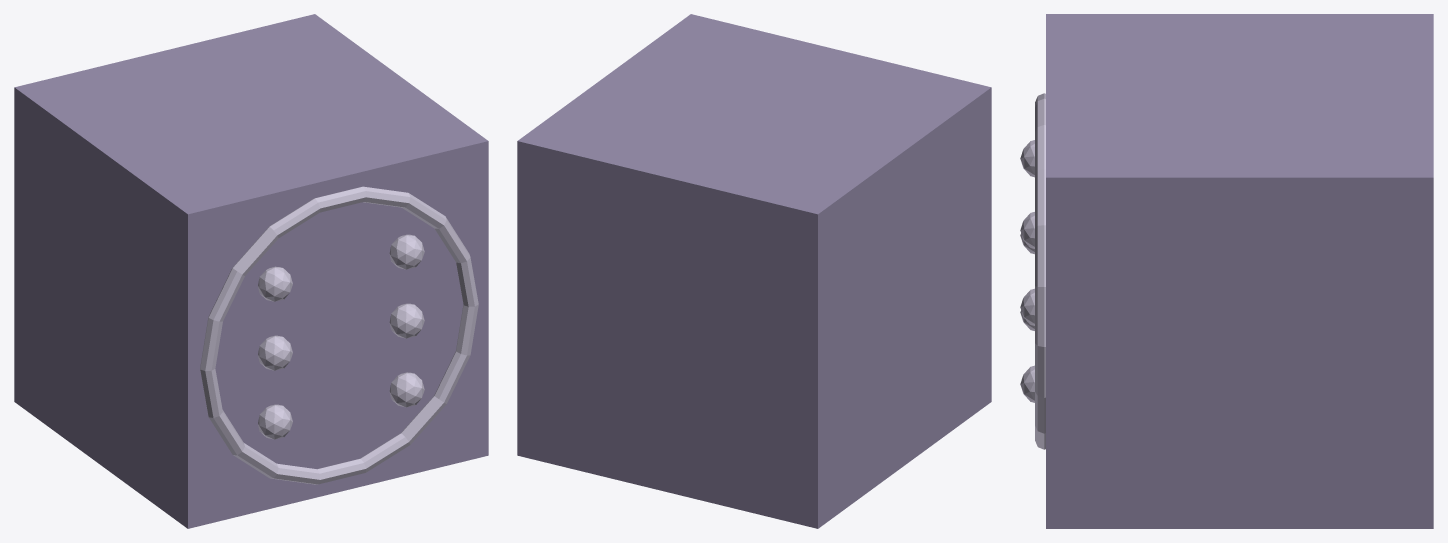
Rendered from kette.glb.
3 renders of one model, left to right at view 1: azimuth 30°, elevation 25°; view 2: azimuth 150°, elevation 25°; view 3: azimuth 270°, elevation 25°, orthographic. The views are drawn at different scales.
Visible parts, largest first — view 1: world; view 2: world; view 3: world.
Boxes of the visible parts, x1,y1,x2,y2 form: world: (14,14,488,528); world: (517,14,991,528); world: (1020,14,1433,528).
Size of the model in its own units: 1.05 by 1.05 by 1.12.
